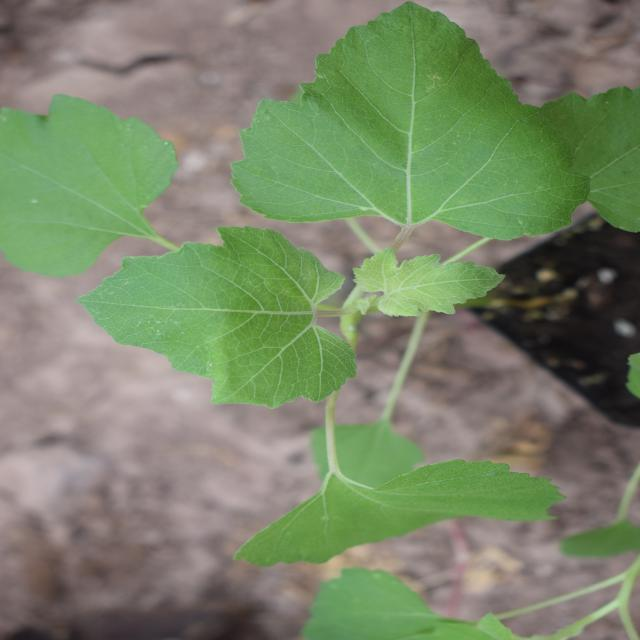cocklebur: (66, 65, 618, 572)
